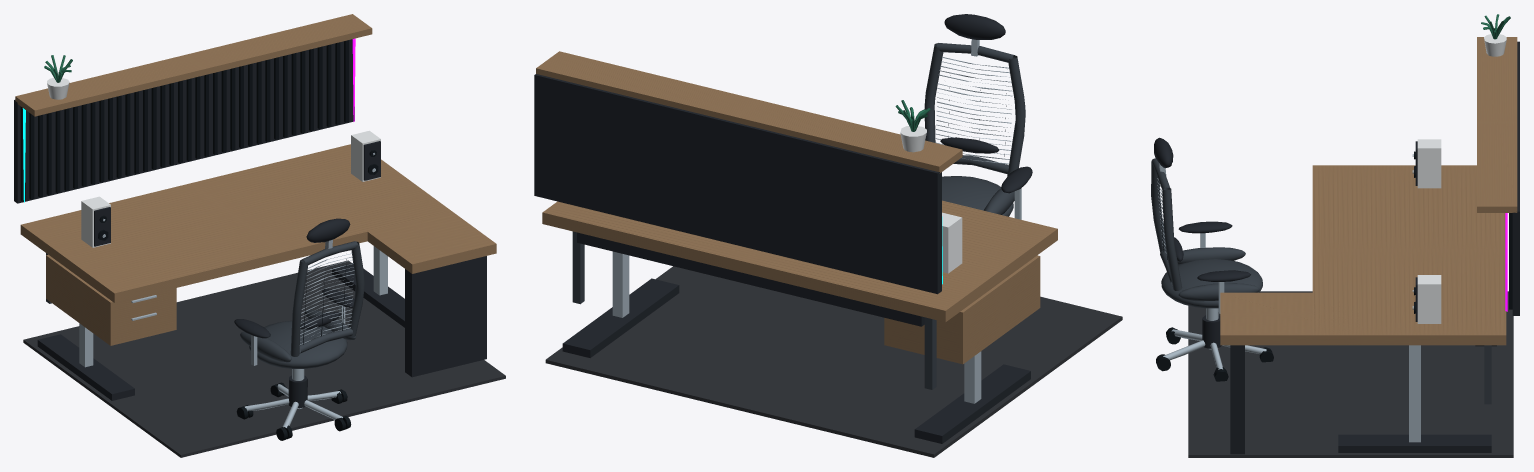
Rendered from furniture87-oak.glb.
The picture shows the model from 3 angles, left to right: view 1: azimuth 30°, elevation 25°; view 2: azimuth 150°, elevation 25°; view 3: azimuth 270°, elevation 25°; orthographic projection. The views are drawn at different scales.
Visible parts, largest first — view 1: s83-surface-552bce98-1128-4cd5-8bcc-b2e776c83c39, s83-surface-aa570fc5-2dd5-464b-a9e1-32b9e9395084; view 2: s83-surface-552bce98-1128-4cd5-8bcc-b2e776c83c39, s83-surface-aa570fc5-2dd5-464b-a9e1-32b9e9395084; view 3: s83-surface-552bce98-1128-4cd5-8bcc-b2e776c83c39, s83-surface-aa570fc5-2dd5-464b-a9e1-32b9e9395084.
Boxes of the visible parts, x1,y1,x2,y2 form: s83-surface-552bce98-1128-4cd5-8bcc-b2e776c83c39: [14, 39, 505, 457]; s83-surface-aa570fc5-2dd5-464b-a9e1-32b9e9395084: [15, 14, 496, 345]; s83-surface-552bce98-1128-4cd5-8bcc-b2e776c83c39: [534, 14, 1122, 457]; s83-surface-aa570fc5-2dd5-464b-a9e1-32b9e9395084: [536, 51, 1057, 364]; s83-surface-552bce98-1128-4cd5-8bcc-b2e776c83c39: [1151, 14, 1519, 457]; s83-surface-aa570fc5-2dd5-464b-a9e1-32b9e9395084: [1220, 37, 1517, 345].
Size of the model in its own units: 2.2 by 1.76 by 2.02.
4 materials, 4 textured.
